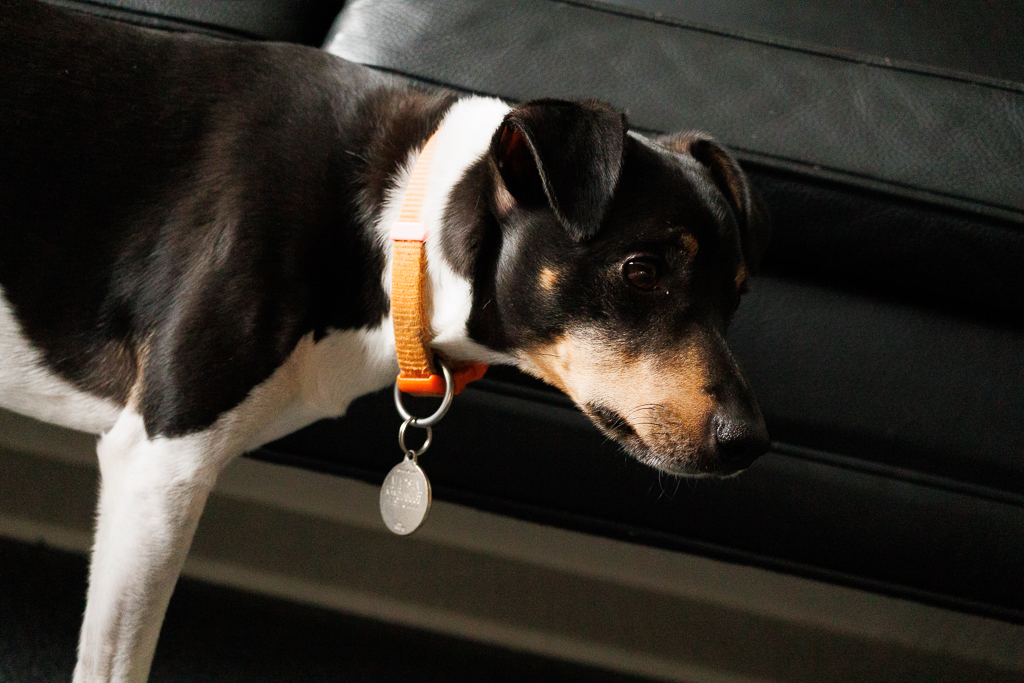Dog: (0, 0, 787, 683)
